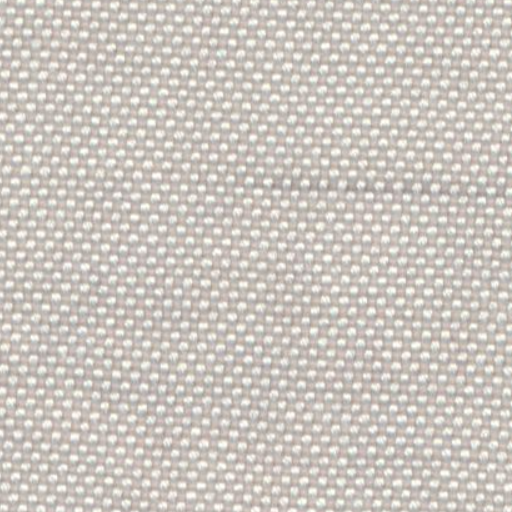WuZi: (245, 170, 461, 200)
